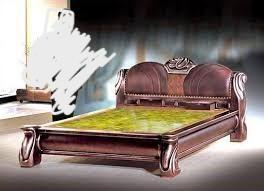Bed-Mattress: (13, 58, 249, 176)
